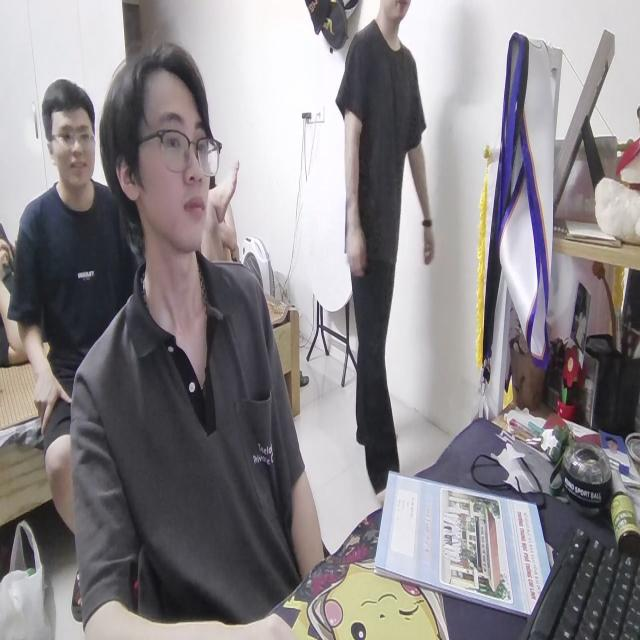book: (373, 462, 554, 618)
extra_person: (329, 0, 431, 519), (15, 74, 136, 488)
student: (69, 40, 328, 640)
